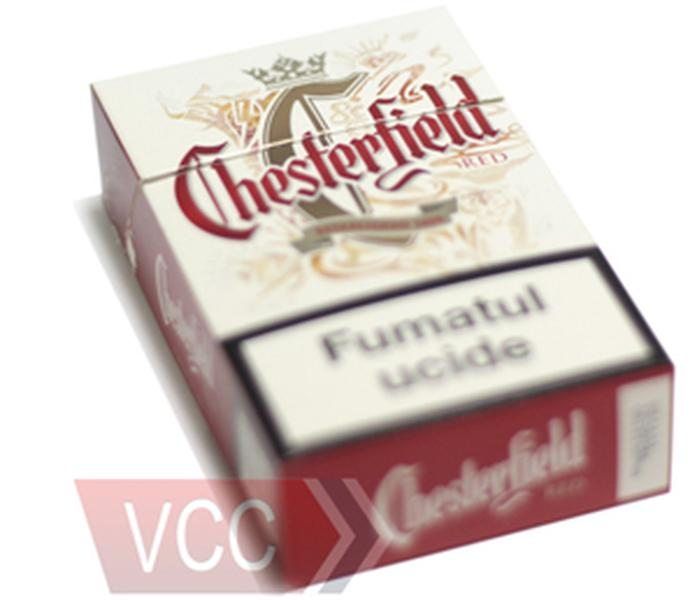chesterfield_red: (146, 32, 507, 447)
